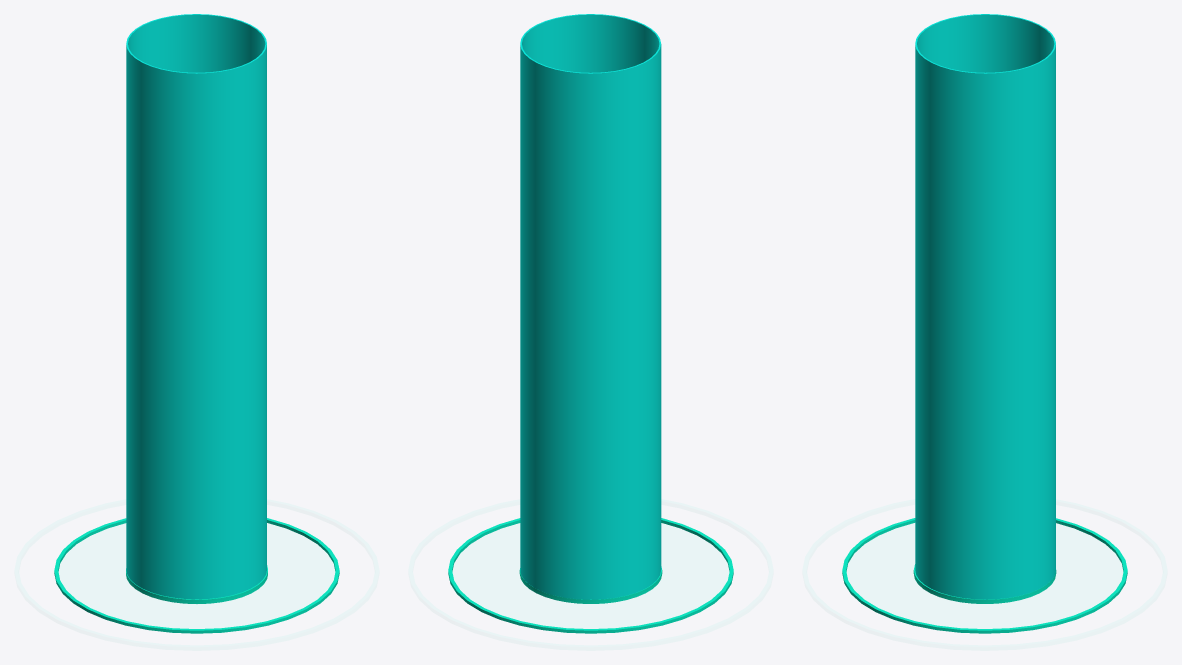
Rendered from qiangxianduiwu.gltf.
3 views of the same model, side by side, from view 1: azimuth 30°, elevation 25°; view 2: azimuth 150°, elevation 25°; view 3: azimuth 270°, elevation 25° (orthographic).
Visible parts, largest first — view 1: Z_UP; view 2: Z_UP; view 3: Z_UP.
Boxes of the visible parts, x1,y1,x2,y2 form: Z_UP: [54, 14, 339, 633]; Z_UP: [448, 14, 733, 633]; Z_UP: [842, 14, 1127, 633].
Bounding box in the file's own units: 4.52 × 7.24 × 4.52.
